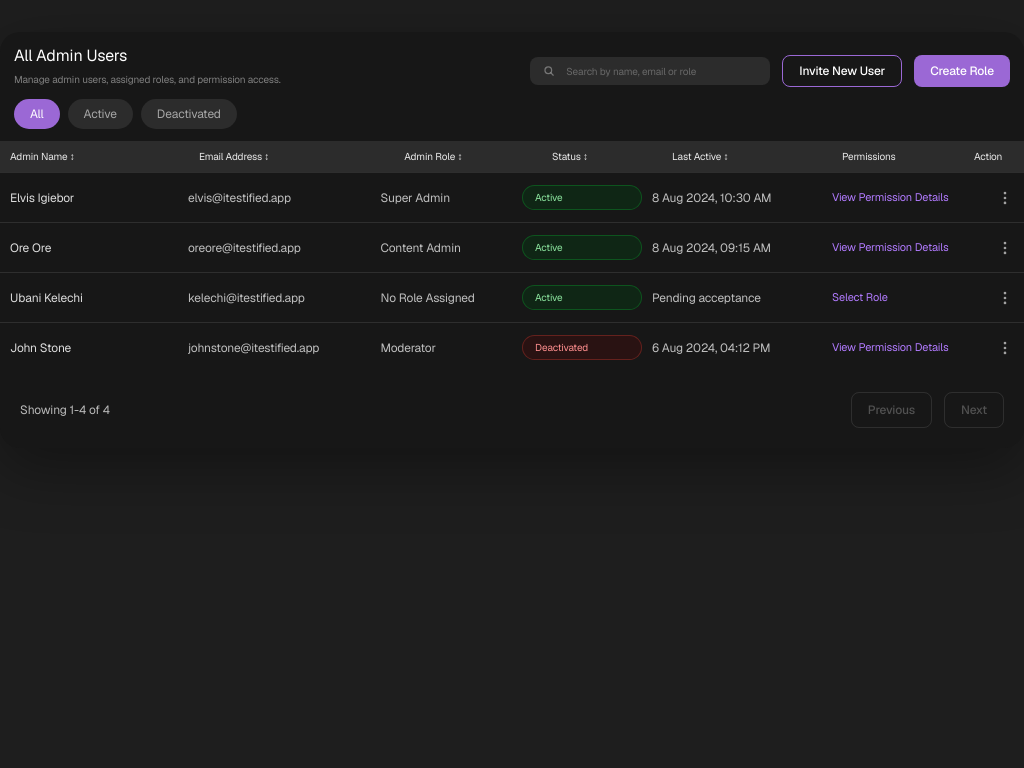
admin management page › opens loaded admin permission and assign-role modals without an extra fetch
The image size is (1024, 768).
Click the button "View Permission Details" next to "8 Aug 2024, 10:30 AM" at (898, 198), box [832,189,964,206]
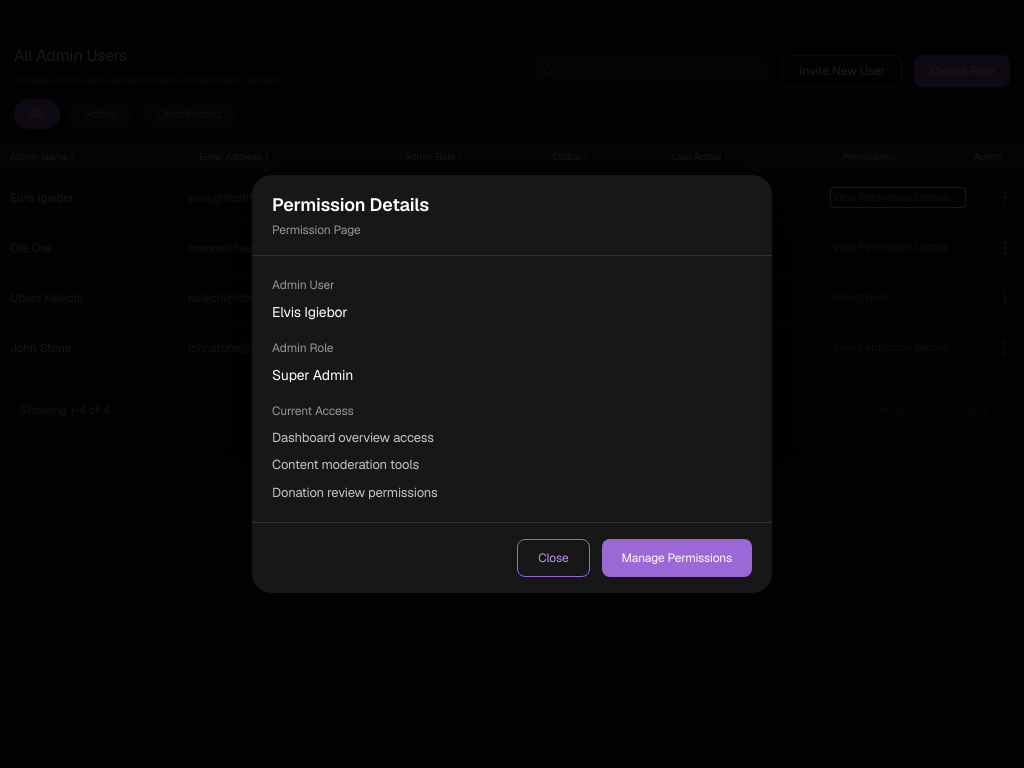
Expected: the heading "Permission Details" is shown, [272,192,429,216]
Click the button with aria-label "Close permission details" at (553, 558), box [517,539,590,577]
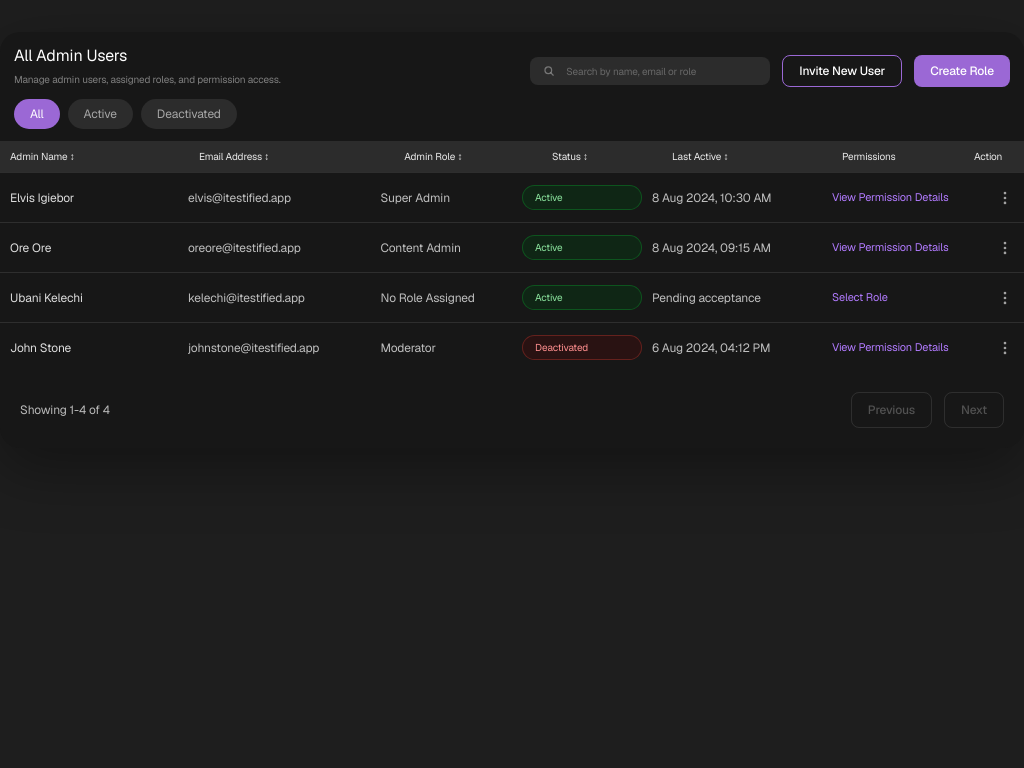
Click the button "Select Role" at (898, 298), box [832,289,964,306]
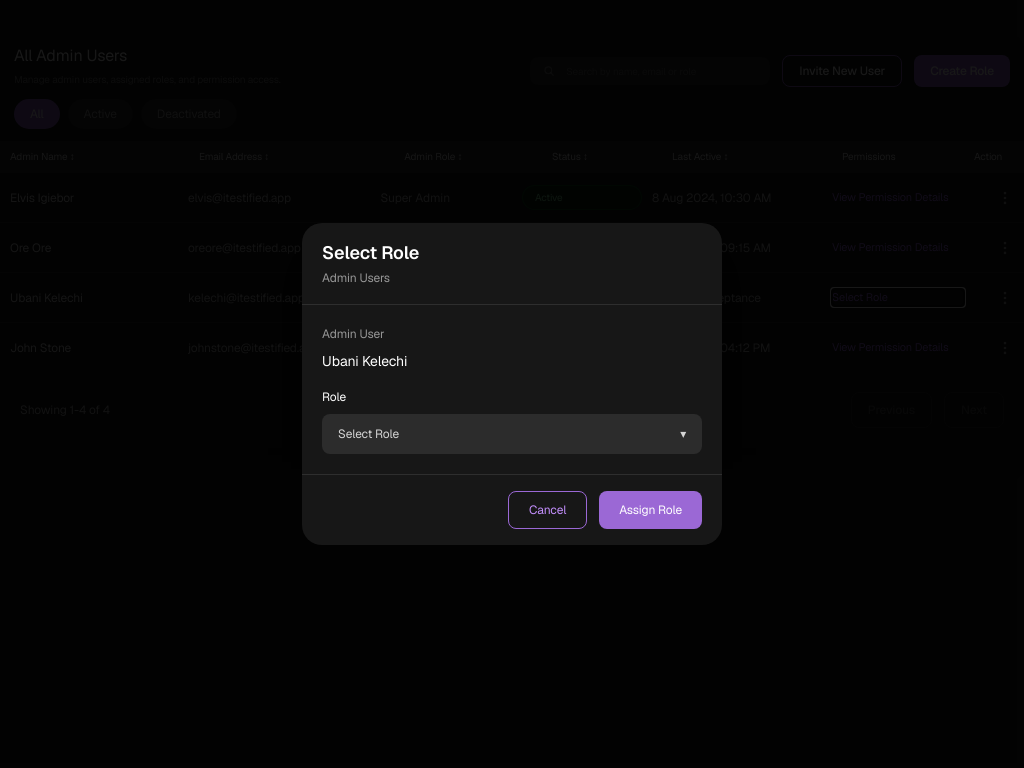
Expected: the heading "Select Role" is shown, [322,241,419,264]
